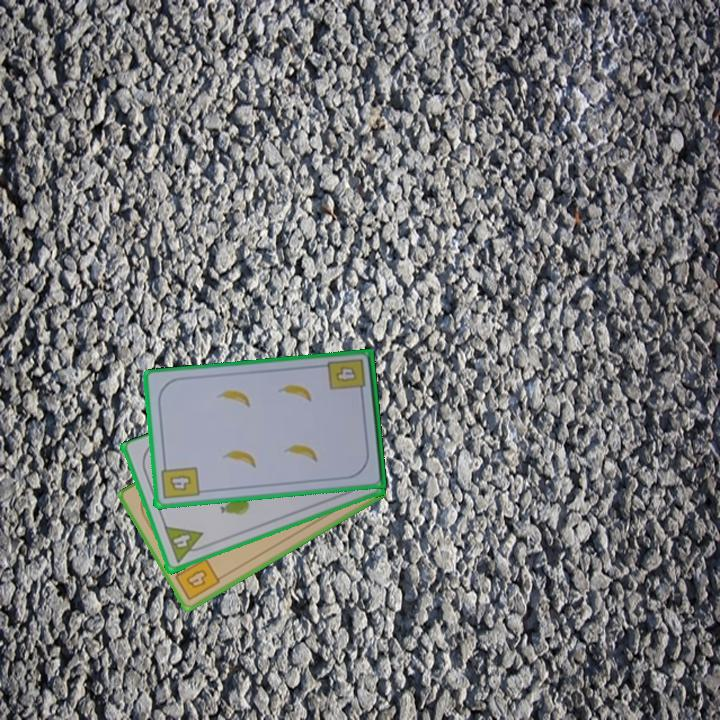4b: (170, 554, 223, 604), (157, 459, 201, 502), (331, 363, 359, 385)
4p: (163, 523, 204, 554)
